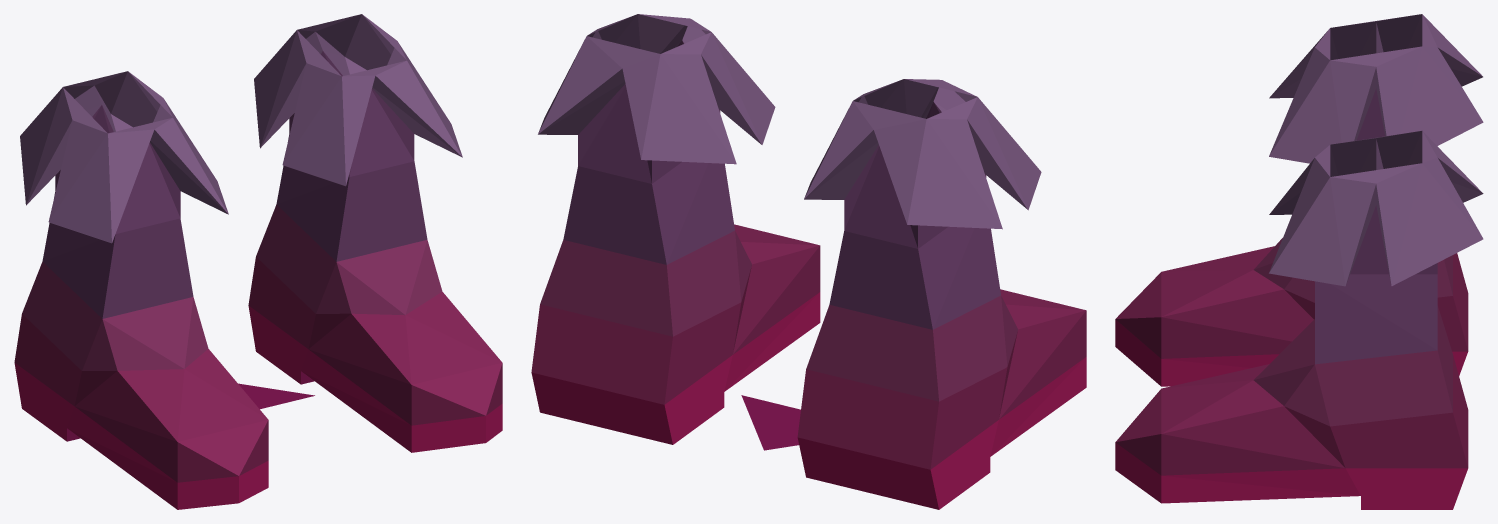
The picture shows the model from 3 angles, left to right: view 1: azimuth 30°, elevation 25°; view 2: azimuth 150°, elevation 25°; view 3: azimuth 270°, elevation 25°; orthographic projection. The views are drawn at different scales.
Bounding box in the file's own units: 31 × 24 × 24.
